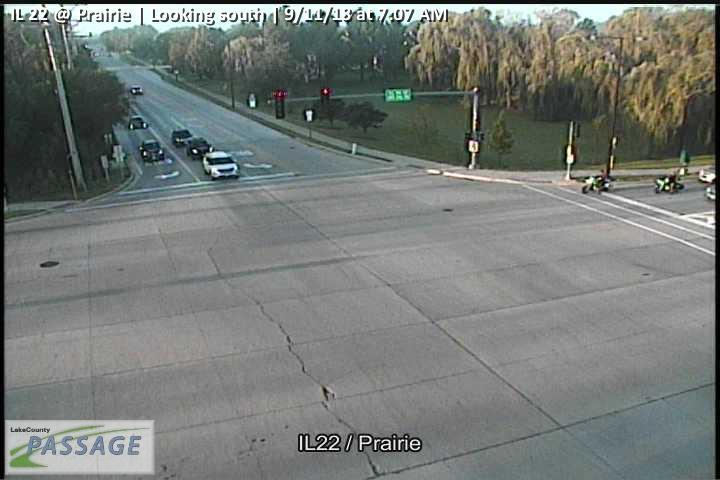Motorbike: (652, 174, 685, 193), (581, 175, 611, 194)
SUV: (203, 150, 240, 181), (186, 136, 214, 160), (139, 139, 165, 162)
Sedan: (171, 128, 193, 147), (129, 115, 147, 129)
